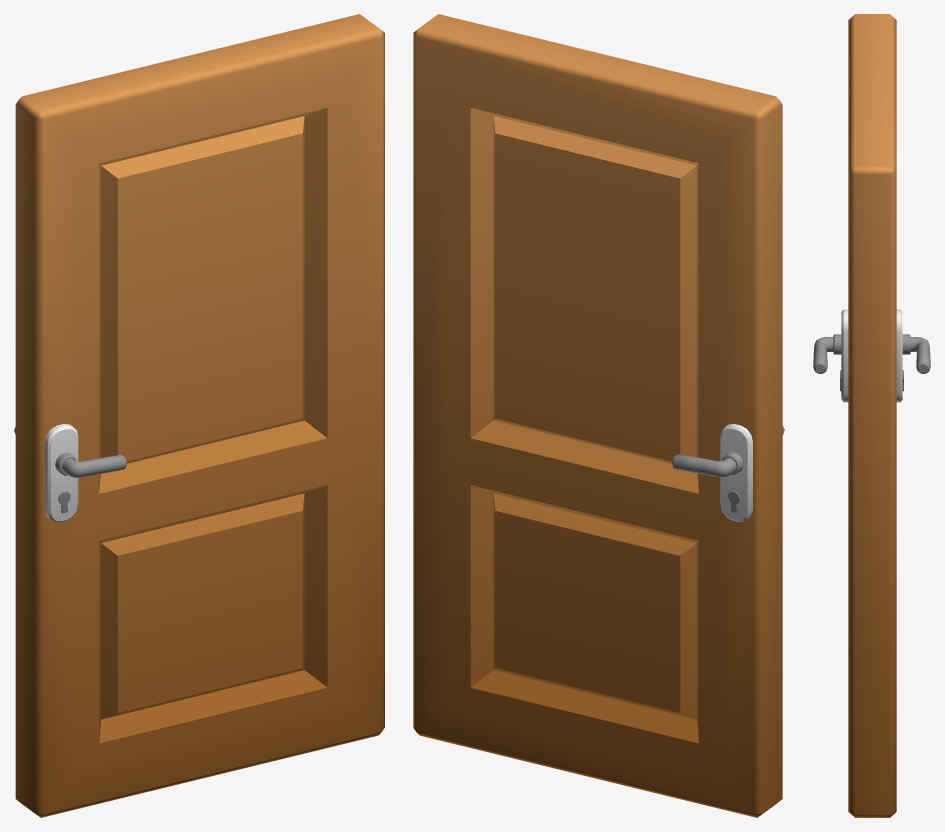
Rendered from Door_18.glb.
The picture shows the model from 3 angles, left to right: view 1: azimuth 30°, elevation 25°; view 2: azimuth 150°, elevation 25°; view 3: azimuth 270°, elevation 25°; orthographic projection. The views are drawn at different scales.
Visible parts, largest first — view 1: Door_18, Door_18 Attach; view 2: Door_18, Door_18 Attach; view 3: Door_18, Door_18 Attach.
Boxes of the visible parts, left/top/right/bottom form: Door_18: left=15, top=14, right=384, bottom=817; Door_18 Attach: left=14, top=427, right=126, bottom=477; Door_18: left=413, top=14, right=782, bottom=817; Door_18 Attach: left=672, top=425, right=784, bottom=477; Door_18: left=840, top=14, right=903, bottom=817; Door_18 Attach: left=813, top=334, right=930, bottom=373.
Size of the model in its own units: 0.8486 by 1.64 by 0.2669.
1 material, 1 textured.
